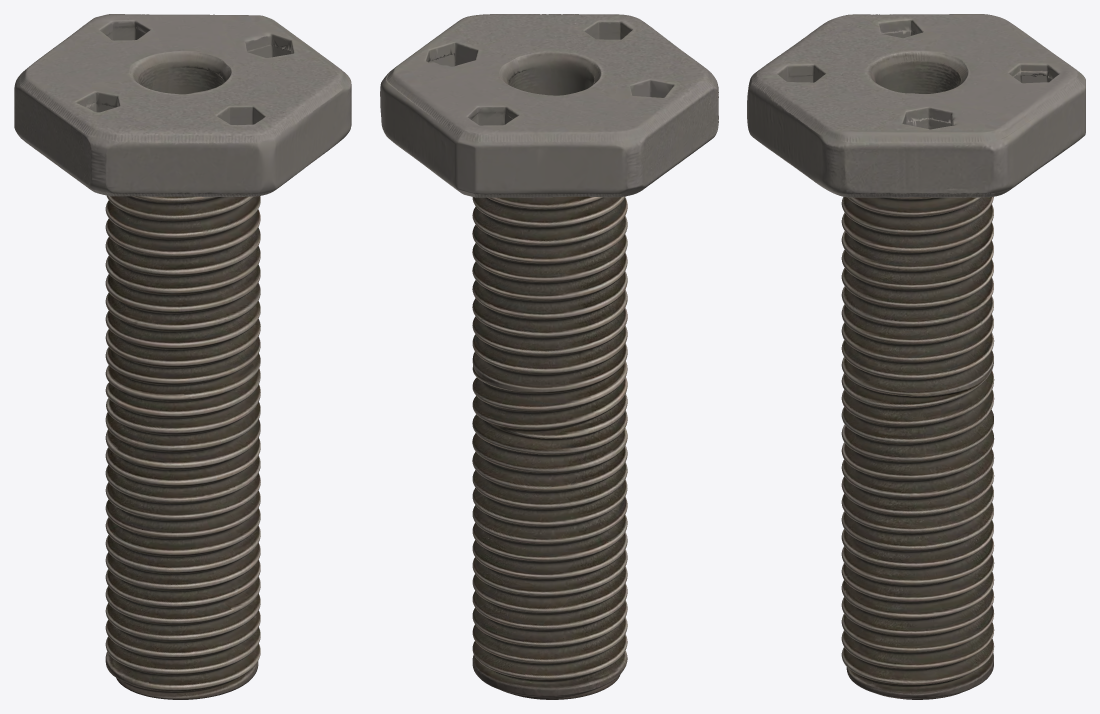
File: screw.glb
3 views of the same model, side by side, from view 1: azimuth 30°, elevation 25°; view 2: azimuth 150°, elevation 25°; view 3: azimuth 270°, elevation 25° (orthographic).
Parts seen in each view (by area): view 1: tripo_node_7b9217ff-2361-4779-b06e-6434d5187a6f; view 2: tripo_node_7b9217ff-2361-4779-b06e-6434d5187a6f; view 3: tripo_node_7b9217ff-2361-4779-b06e-6434d5187a6f.
Part boxes in pixels (x1,y1,x2,y2): tripo_node_7b9217ff-2361-4779-b06e-6434d5187a6f: [14, 14, 351, 699]; tripo_node_7b9217ff-2361-4779-b06e-6434d5187a6f: [380, 14, 718, 699]; tripo_node_7b9217ff-2361-4779-b06e-6434d5187a6f: [747, 14, 1085, 699].
Bounding box in the file's own units: 0.4474 × 0.9811 × 0.5032.
1 material, 1 textured.
